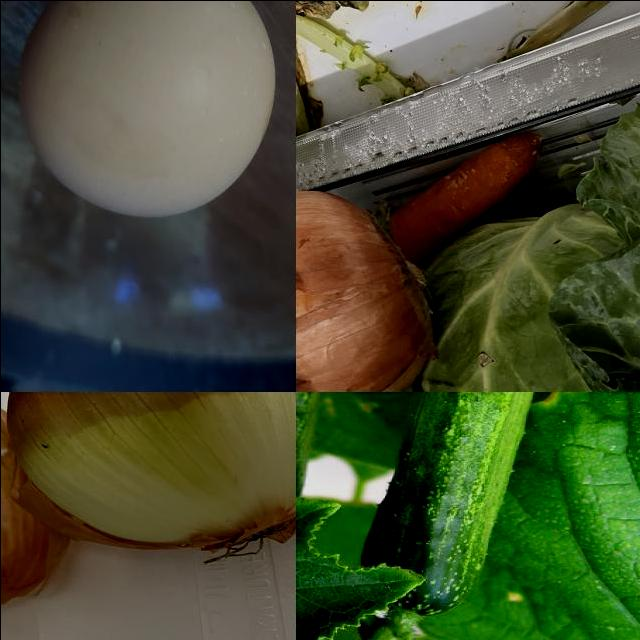cabbage: (402, 105, 640, 392)
carrot: (392, 128, 544, 268)
cucumber: (355, 392, 560, 628)
egg: (17, 1, 281, 231)
onion: (3, 392, 296, 565), (296, 186, 434, 392)
